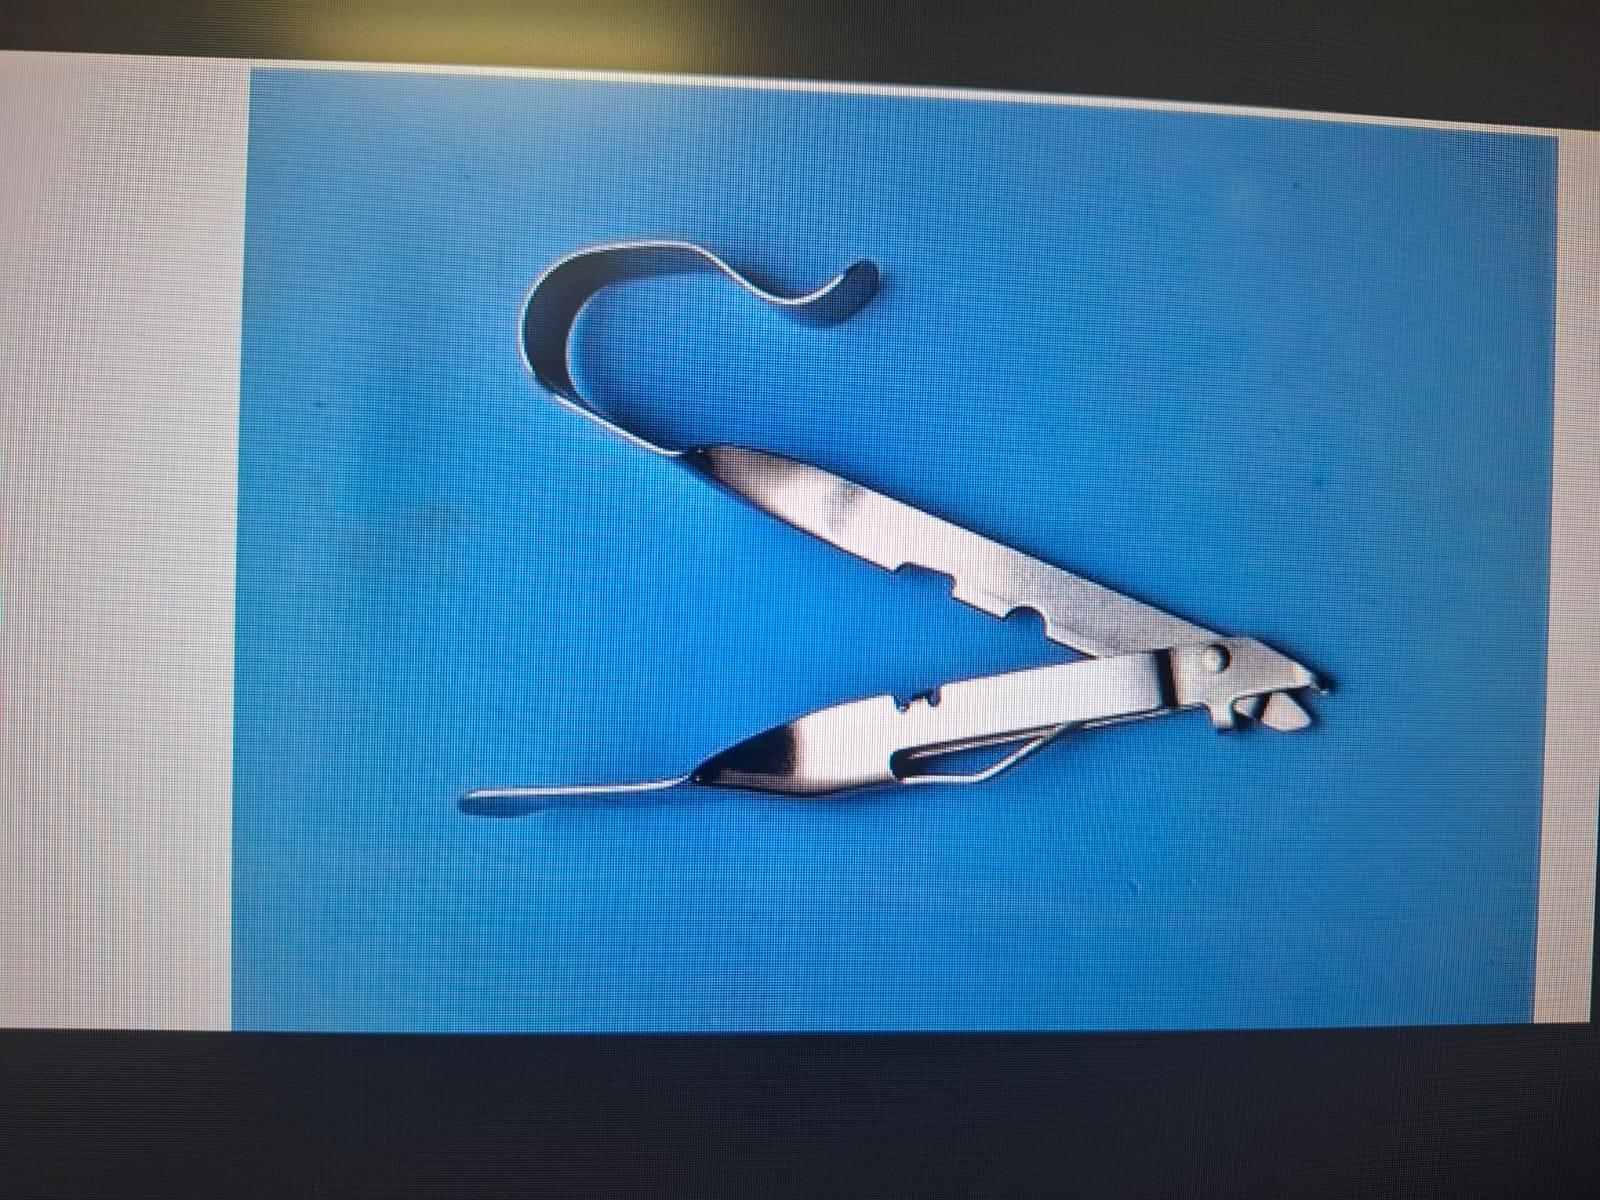Stapler Remover: (446, 214, 1351, 829)
